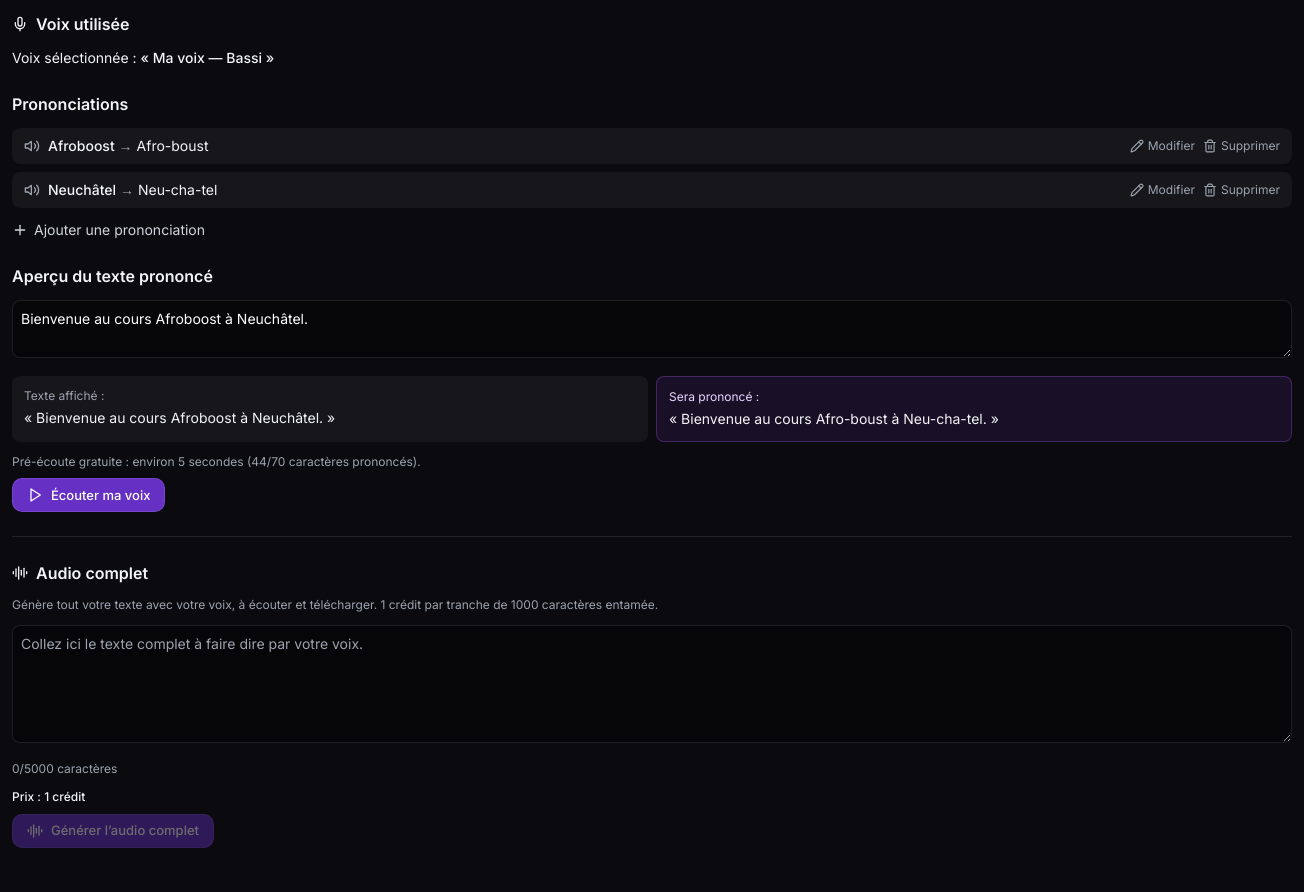
Test: MaVoixPanel › ⚠️ « Écouter ma voix » : POST /api/voice/ecoute avec le texte AFFICHÉ (le serveur applique les prononciations) ; audio réel joué, texte dit montré
Click the button "Écouter ma voix". click: (89, 495)
box: [12,478,165,512]
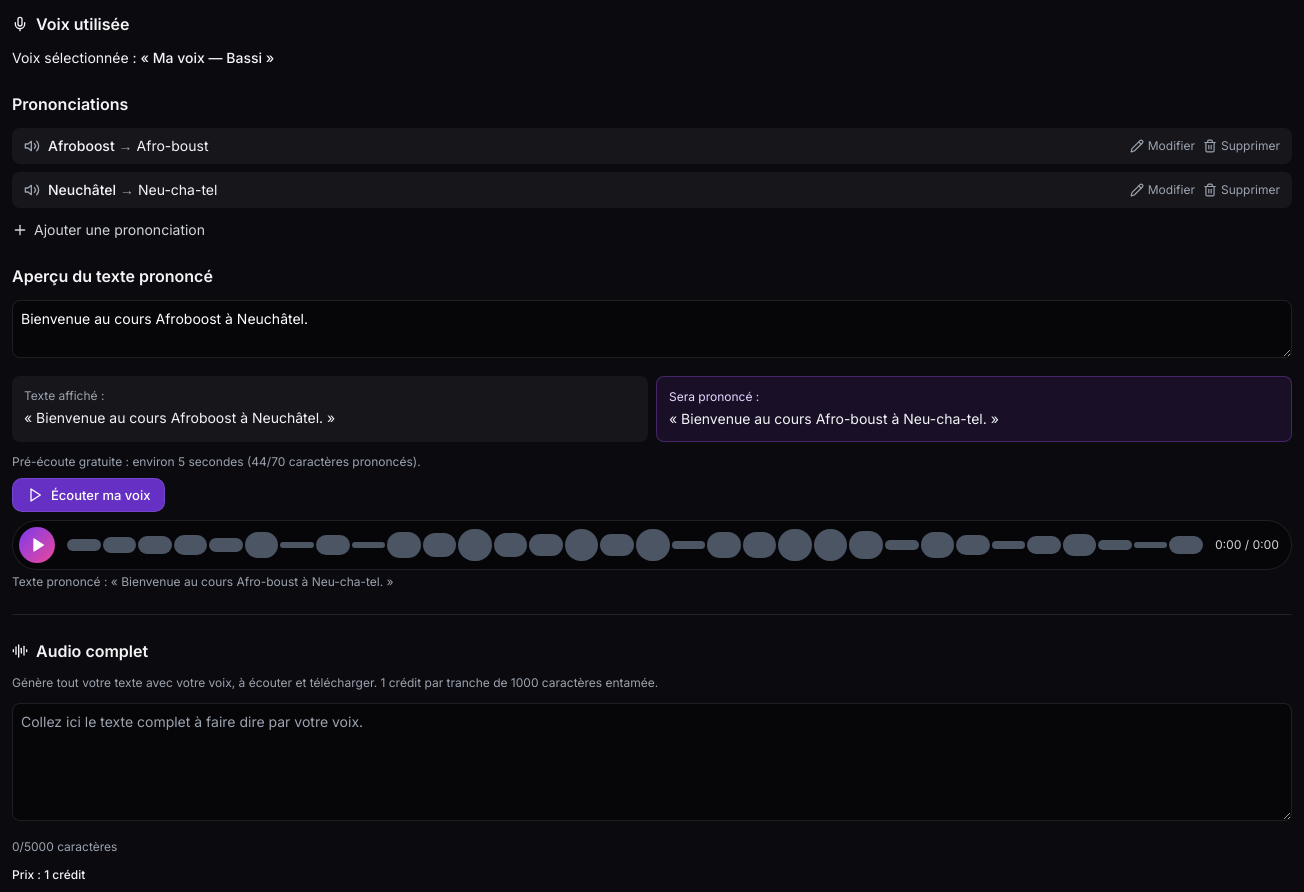
Check: the text "Texte prononcé : « Bienvenue au cours Afro-boust à Neu-cha-tel. »" is shown, box [12,574,394,589]
